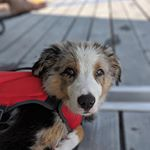puppy: (1, 38, 125, 150)
